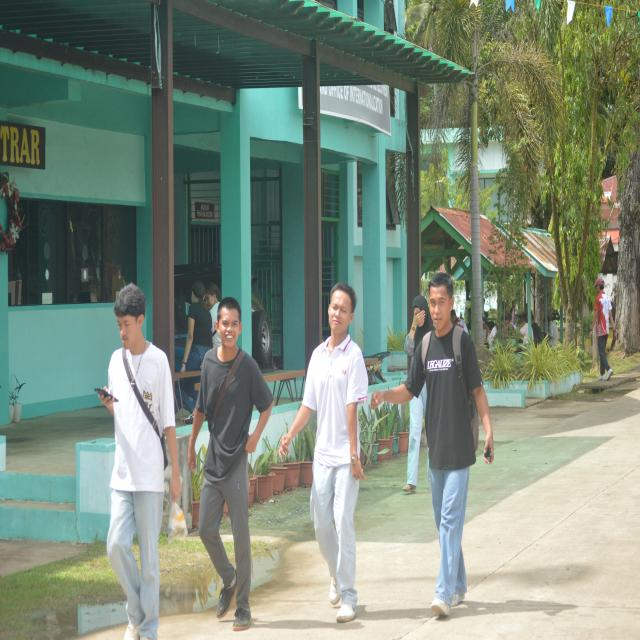person: (372, 273, 493, 615), (279, 283, 368, 622), (100, 284, 181, 639), (189, 298, 273, 630), (175, 281, 212, 372), (403, 385, 427, 492), (590, 278, 614, 380), (204, 282, 222, 348)
